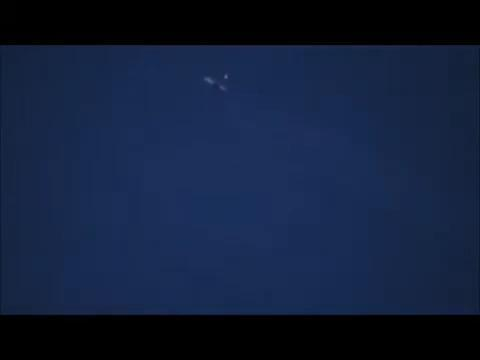Plane: (185, 65, 251, 100)
